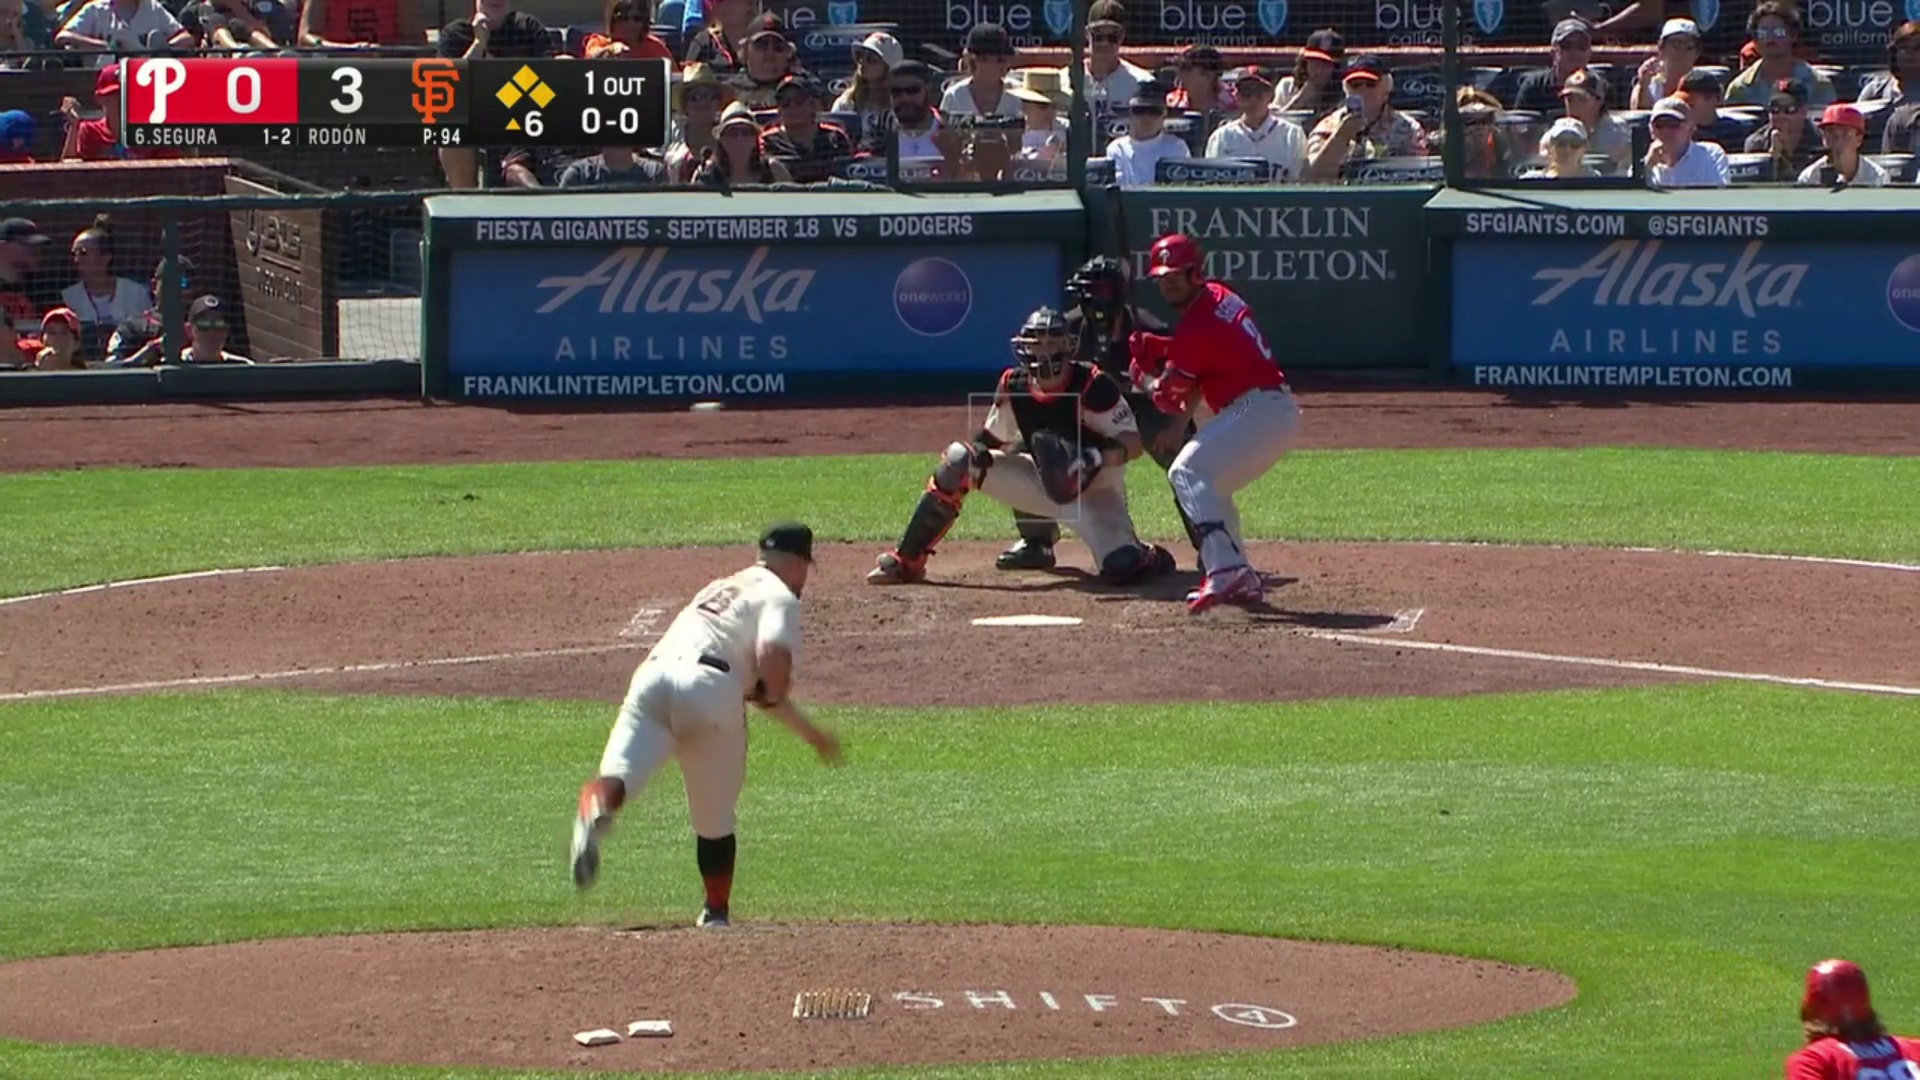baseball: (690, 400, 721, 419)
